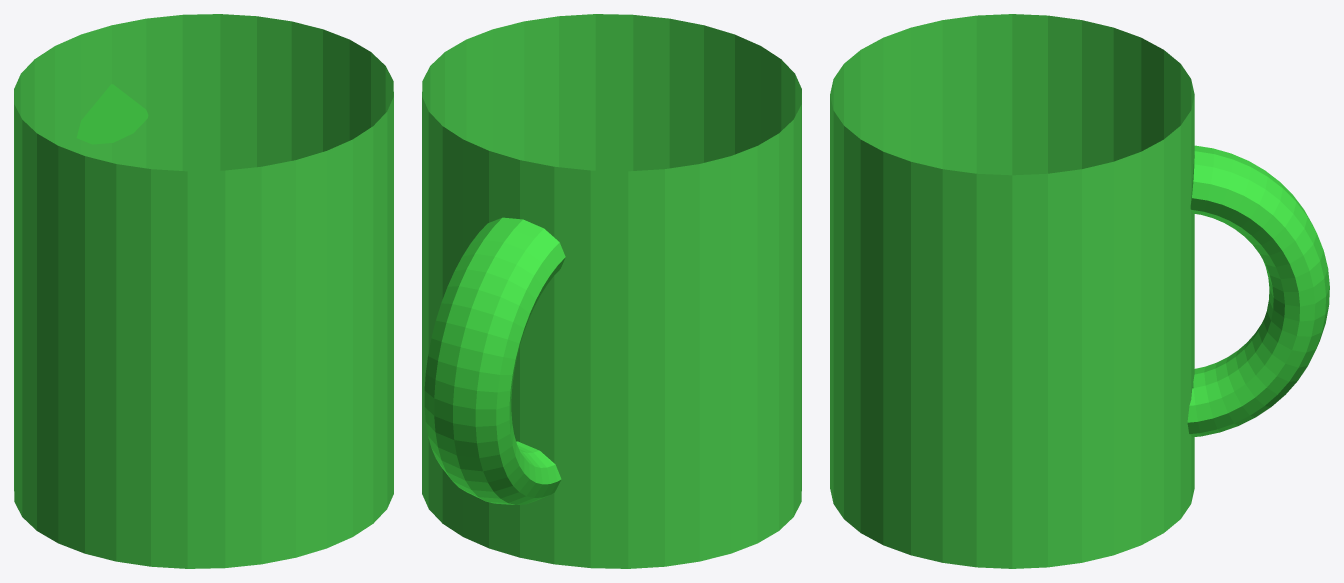
The model's file is GreenCup.fbx.
The picture shows the model from 3 angles, left to right: view 1: azimuth 30°, elevation 25°; view 2: azimuth 150°, elevation 25°; view 3: azimuth 270°, elevation 25°; orthographic projection.
Parts seen in each view (by area): view 1: Cylinder, Torus; view 2: Cylinder, Torus; view 3: Cylinder, Torus.
Boxes of the visible parts, x1,y1,x2,y2 form: Cylinder: (14,14,393,568); Torus: (76,84,148,144); Cylinder: (422,14,801,568); Torus: (424,217,565,504); Cylinder: (830,14,1194,568); Torus: (1187,145,1329,437).
Bounding box in the file's own units: 48.22 × 54.87 × 63.16.
